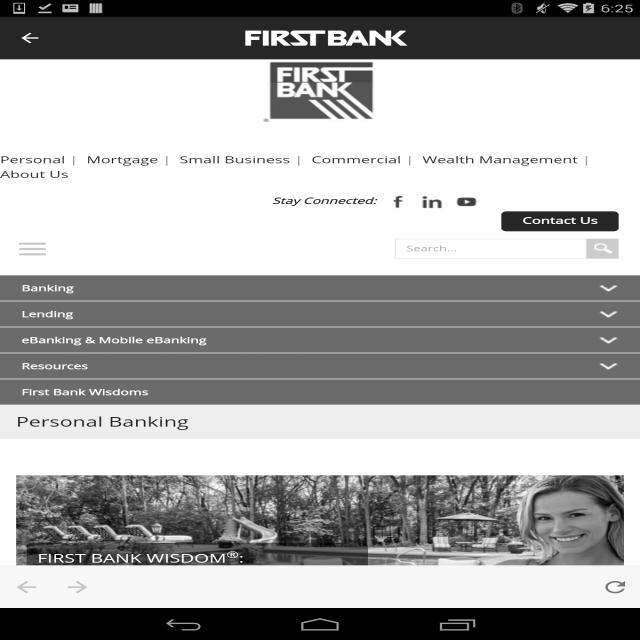Button: (523, 566, 613, 587)
EditText: (394, 238, 588, 258)
ImageButton: (0, 19, 60, 57)
ImageView: (59, 30, 594, 46), (64, 578, 90, 594), (13, 578, 38, 594), (602, 578, 627, 594)
